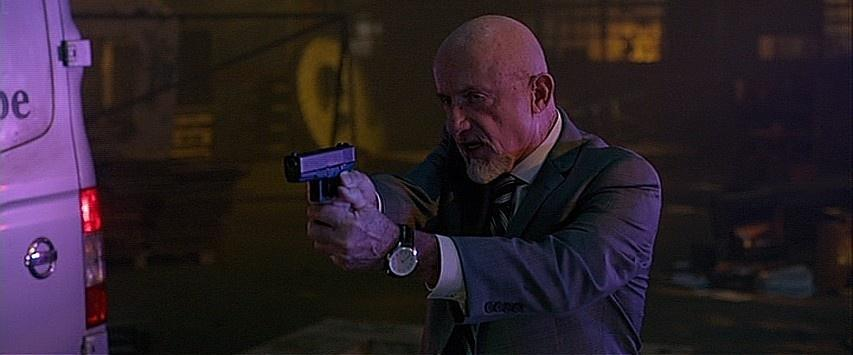gun: (282, 126, 382, 267)
